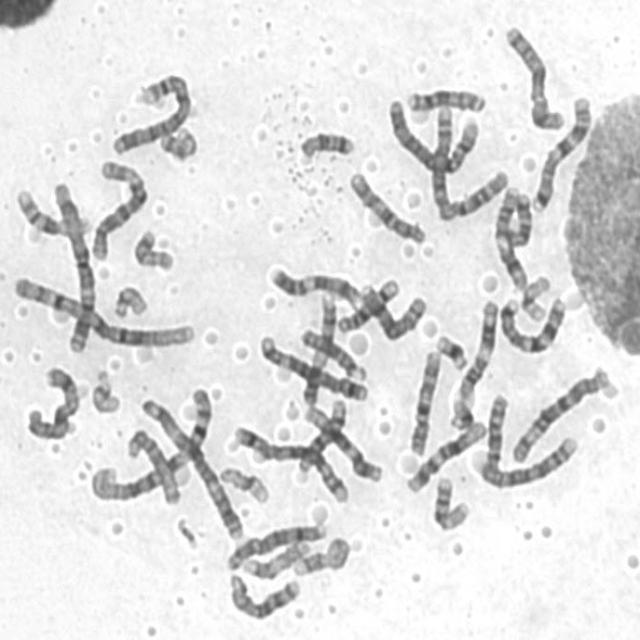A1: (86, 383, 216, 504), (8, 270, 198, 350)
A2: (426, 102, 510, 223), (482, 391, 580, 490)
A3: (138, 390, 245, 542), (46, 175, 97, 355)
B4: (382, 91, 483, 176), (107, 66, 194, 158)
B5: (229, 420, 352, 506), (254, 330, 370, 403)
C10: (344, 165, 428, 246), (404, 343, 444, 458)
C11: (453, 294, 499, 408), (489, 180, 532, 292)
C12: (299, 398, 386, 484), (403, 415, 489, 496)
C6: (506, 362, 614, 465), (86, 153, 150, 262)
C7: (526, 89, 594, 214), (496, 292, 569, 356)
C8: (222, 517, 328, 574), (355, 277, 428, 343)
C9: (298, 288, 338, 406), (264, 261, 362, 307)
D13: (224, 568, 303, 623), (403, 82, 488, 116)
D14: (290, 394, 348, 484), (332, 274, 400, 334)
D15: (121, 422, 184, 506), (295, 321, 368, 382)
E16: (10, 183, 93, 238), (428, 470, 472, 532)
E17: (238, 536, 312, 579), (289, 531, 351, 579)
E18: (294, 124, 357, 163), (503, 187, 534, 248)
F19: (214, 461, 271, 505), (515, 269, 553, 324)
F20: (128, 224, 176, 273), (155, 121, 200, 163)
G21: (432, 328, 471, 372), (446, 392, 476, 432)
G22: (87, 364, 122, 415), (109, 279, 150, 321)
X: (500, 18, 568, 132), (20, 361, 82, 441)
